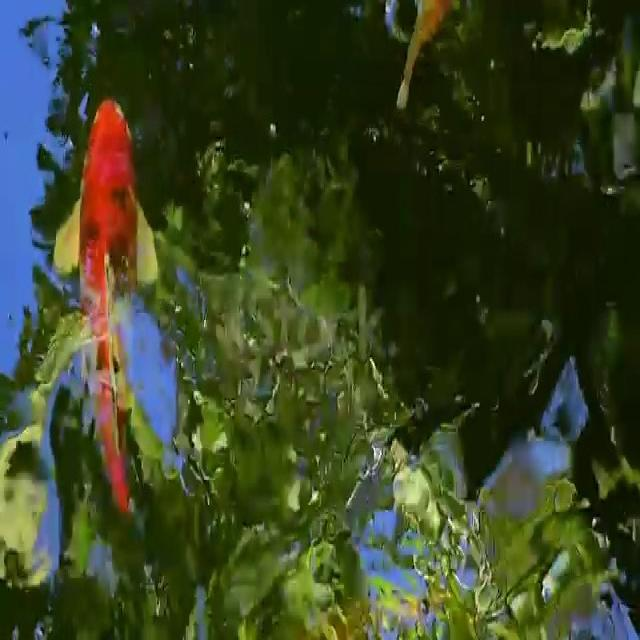fish: (42, 67, 185, 585)
